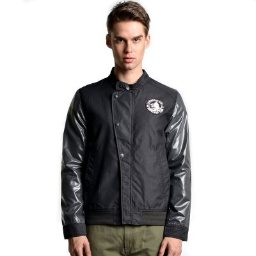face: (104, 1, 151, 72)
